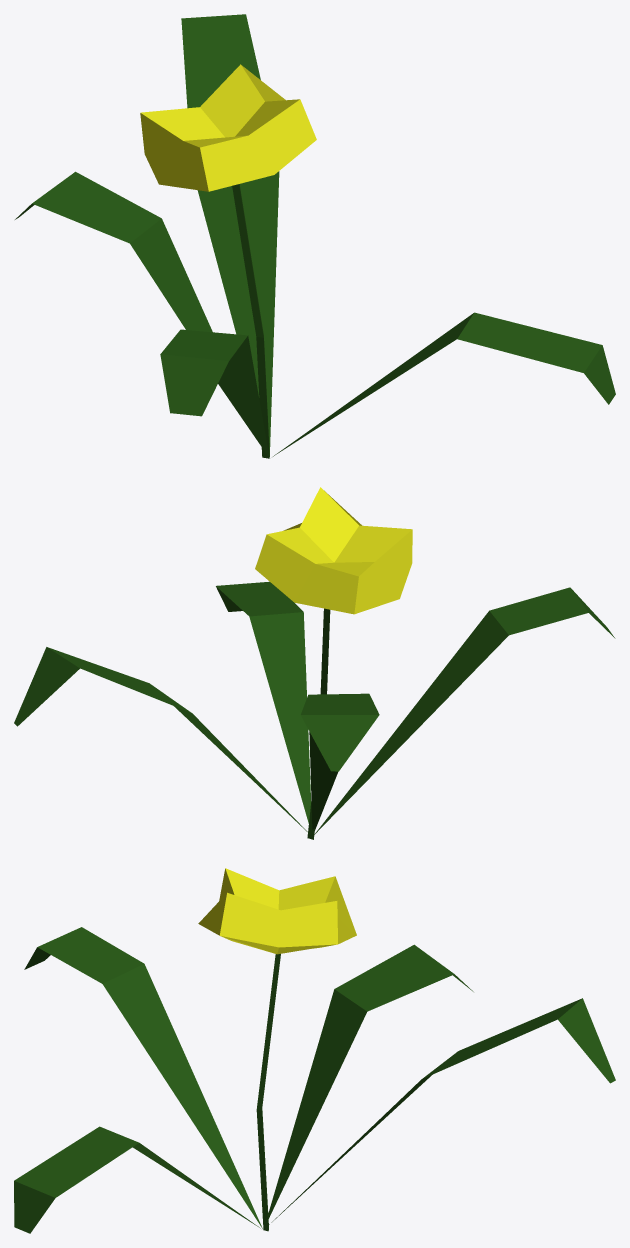
The model's file is SceneryFlower.fbx.
3 views of the same model, one above another, from view 1: azimuth 30°, elevation 25°; view 2: azimuth 150°, elevation 25°; view 3: azimuth 270°, elevation 25° (orthographic). The views are drawn at different scales.
Visible parts, largest first — view 1: Flower; view 2: Flower; view 3: Flower.
Part boxes in pixels (bbox=[...]): Flower: bbox=[15, 14, 615, 458]; Flower: bbox=[14, 487, 615, 839]; Flower: bbox=[14, 868, 615, 1233].
Size of the model in its own units: 188 by 146 by 118.
